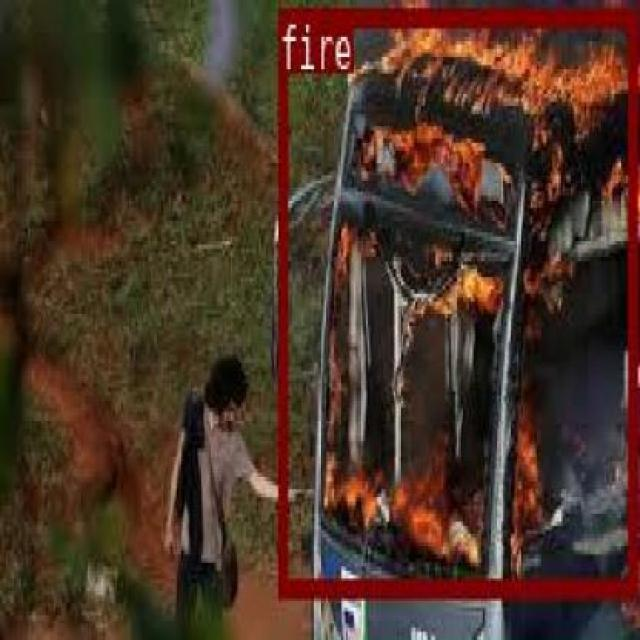Fire: (357, 300, 456, 586)
